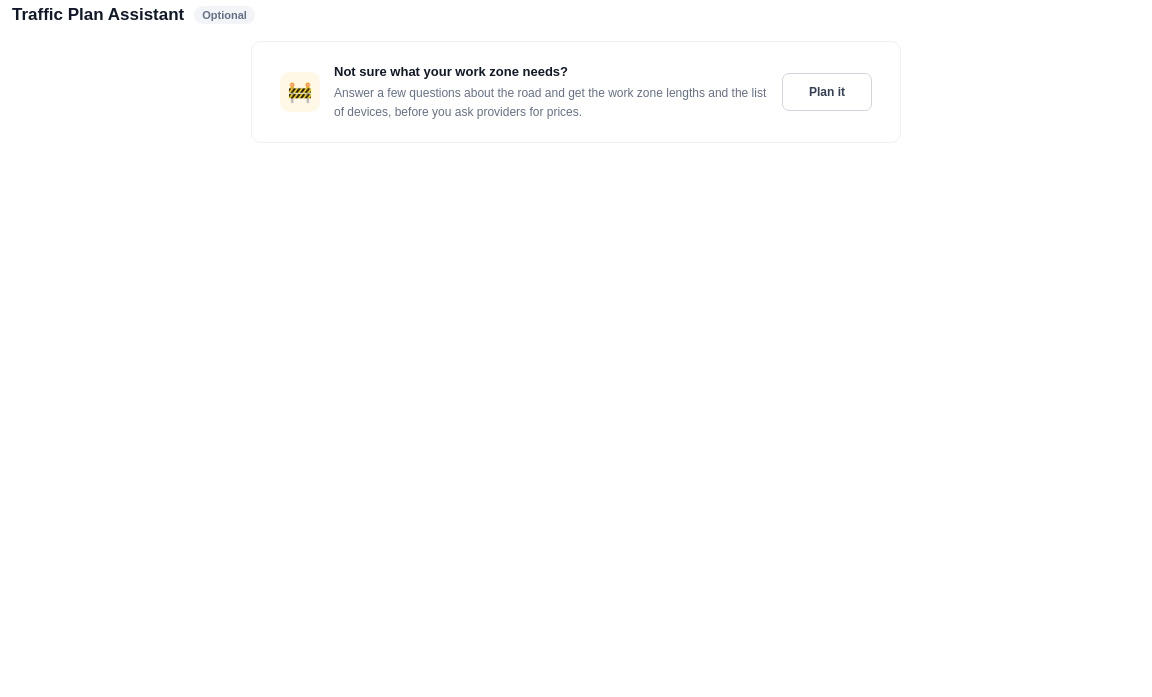
AiTrafficPlan › شرح بدون خطوات ولا مخاطر، وبدون ملاحظات
Click the button "Plan it" at (827, 92), box [782, 73, 872, 111]
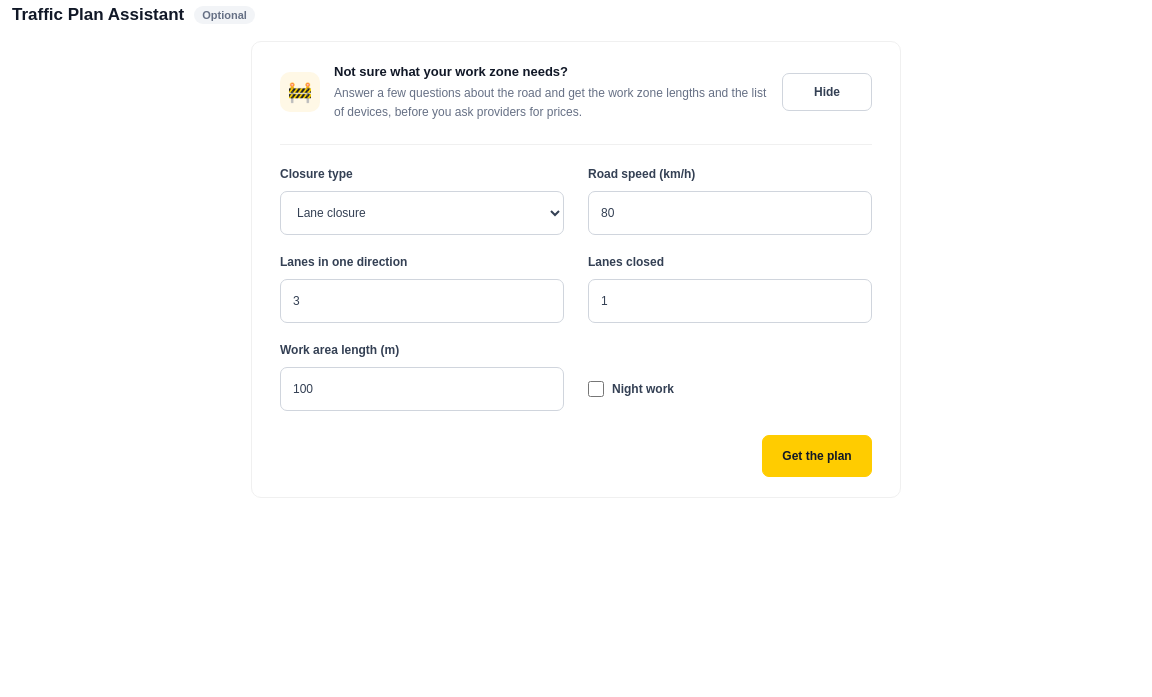
Click the button "Get the plan" at (817, 456), box [762, 435, 872, 477]
(page scrolled)
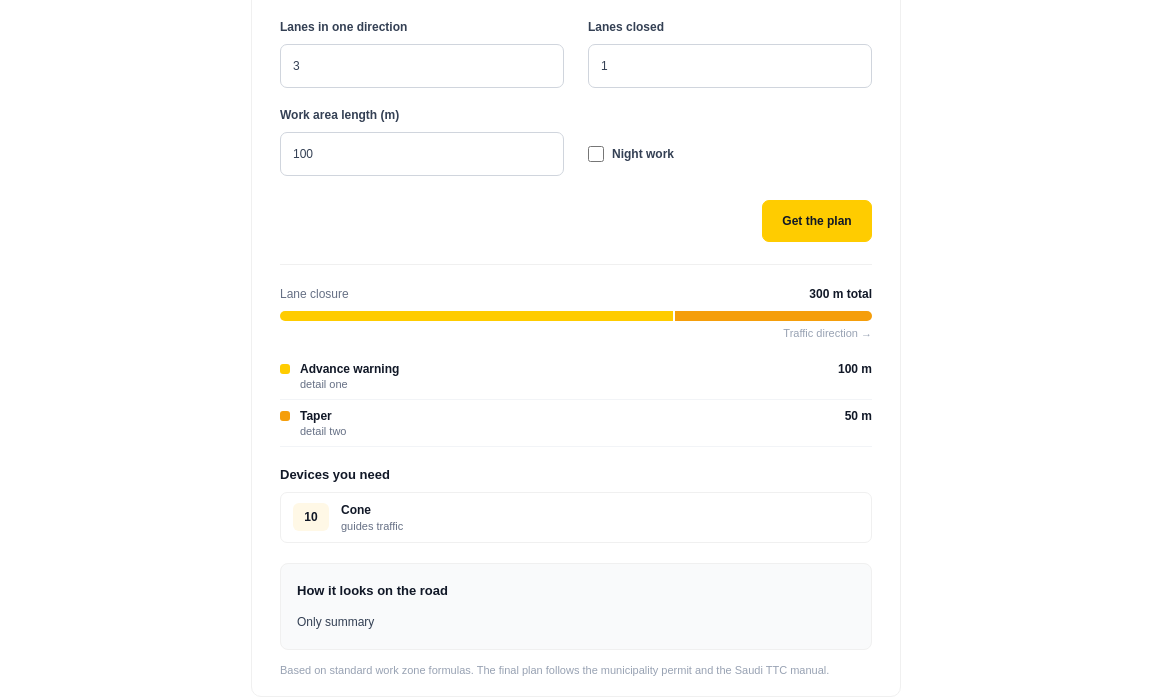
Expected: the text "Only summary" is shown, [297, 616, 374, 630]
